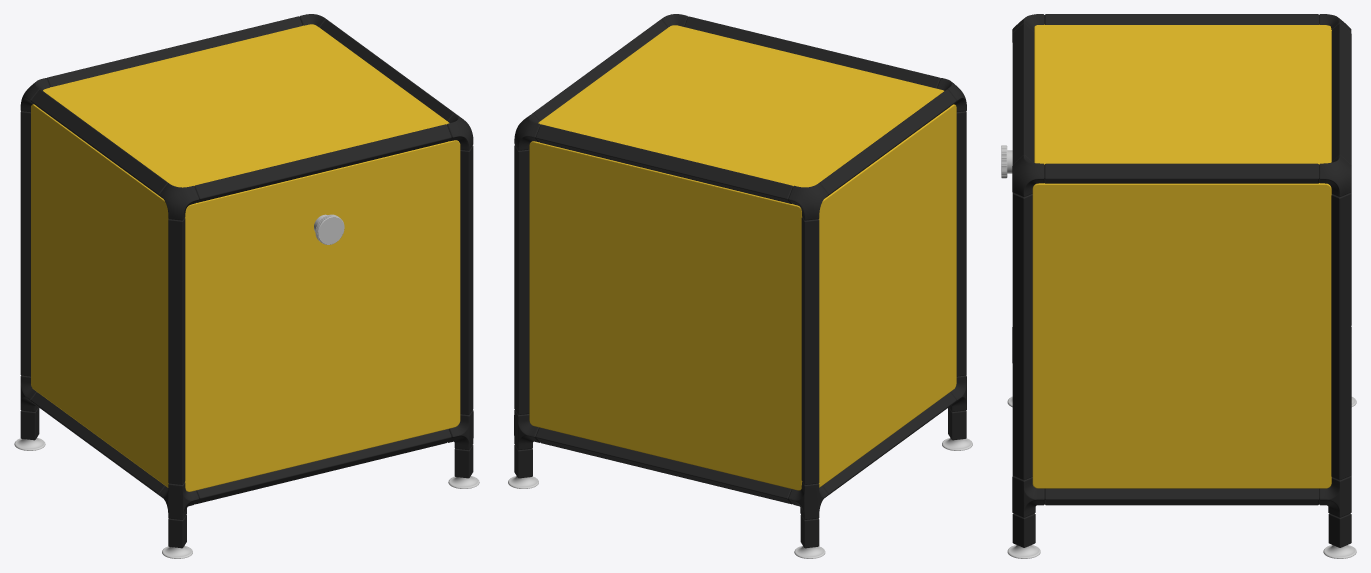
3 views of the same model, side by side, from view 1: azimuth 30°, elevation 25°; view 2: azimuth 150°, elevation 25°; view 3: azimuth 270°, elevation 25° (orthographic). The views are drawn at different scales.
Visible parts, largest first — view 1: 374x329x374; view 2: 374x329x374; view 3: 374x329x374.
Boxes of the visible parts, bbox=[...] form: 374x329x374: bbox=[14, 14, 479, 558]; 374x329x374: bbox=[508, 14, 972, 558]; 374x329x374: bbox=[1001, 14, 1356, 558].
Bounding box in the file's own units: 0.4639 × 0.5133 × 0.4257.
